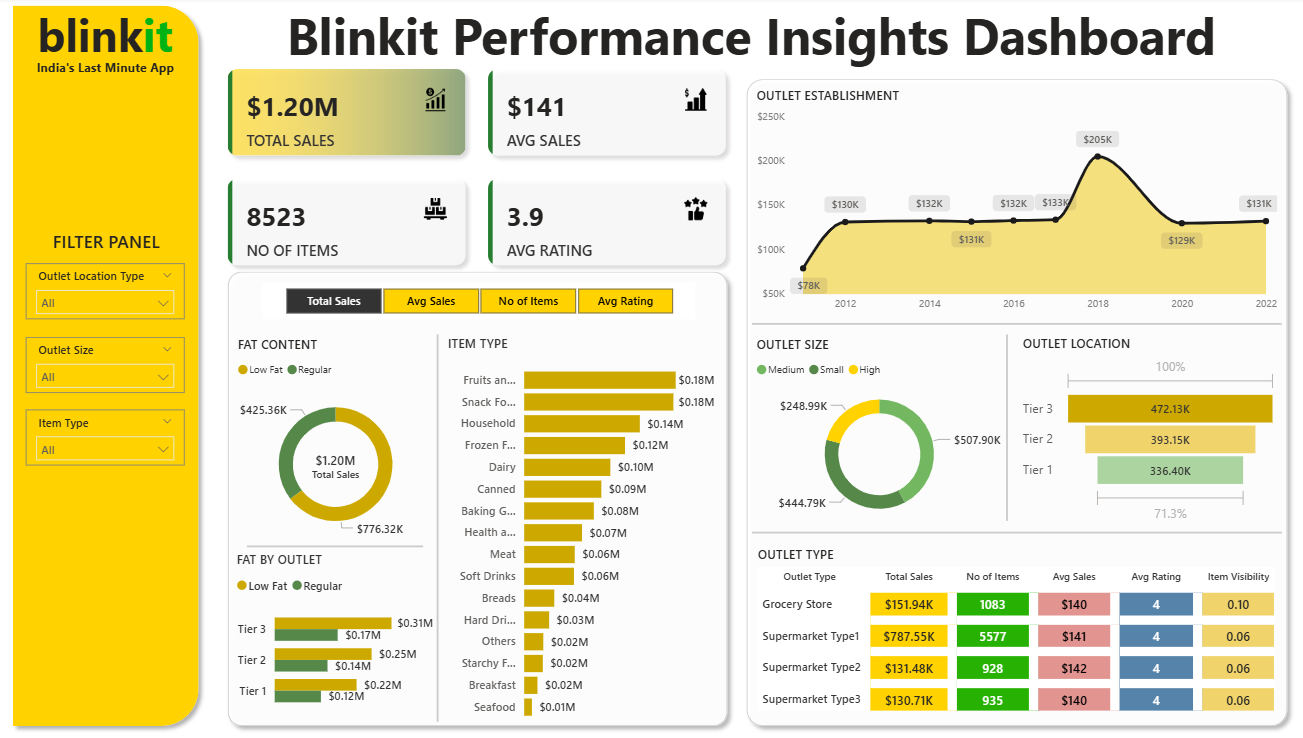

The page's visual inventory and layout, read from the dashboard file:
{"tool":"powerbi","page":{"name":"Page 1","canvas":[1400,800],"ordinal":0},"visuals":[{"type":"shape","box":[8,0,217.2,790.9],"z":0},{"type":"textbox","box":[30.8,2.7,170.2,93.8],"z":1000},{"type":"textbox","box":[37.5,61.7,160.9,34.9],"z":2000},{"type":"cardVisual","fields":{"Data":["BlinkIT Grocery Data.Total Sales","BlinkIT Grocery Data.Avg Sales","BlinkIT Grocery Data.No of Items","BlinkIT Grocery Data.Avg Rating"]},"box":[230.6,60.3,569.7,245.3],"z":3000},{"type":"shape","box":[238.6,285.5,553.6,505.4],"z":4000},{"type":"donutChart","title":"FAT CONTENT","fields":{"Y":["BlinkIT Grocery Data.Total Sales"],"Category":["BlinkIT Grocery Data.Item Fat Content"]},"box":[253.4,363.3,219.8,230.6],"z":5000},{"type":"slicer","fields":{"Values":["mETRICS.mETRICS"]},"box":[284.2,305.6,465.1,40.2],"z":6000},{"type":"cardVisual","fields":{"Data":["BlinkIT Grocery Data.Total Sales"]},"box":[309.7,466.5,107.2,72.4],"z":7000},{"type":"clusteredBarChart","title":"FAT BY OUTLET","fields":{"Y":["BlinkIT Grocery Data.Total Sales"],"Category":["BlinkIT Grocery Data.Outlet Location Type"],"Series":["BlinkIT Grocery Data.Item Fat Content"]},"box":[252,593.8,221.2,182.3],"z":8000},{"type":"shape","box":[268.1,569.7,189,38.9],"z":9000},{"type":"shape","box":[446.4,361.9,52.3,415.6],"z":10000},{"type":"barChart","title":"ITEM TYPE","fields":{"Y":["BlinkIT Grocery Data.Total Sales"],"Category":["BlinkIT Grocery Data.Item Type"]},"box":[478.6,361.9,296.2,423.6],"z":11000},{"type":"shape","box":[794.9,79.1,597.9,711.8],"z":12000},{"type":"lineChart","title":"OUTLET ESTABLISHMENT","fields":{"Y":["BlinkIT Grocery Data.Total Sales"],"Category":["BlinkIT Grocery Data.Outlet Establishment Year"]},"box":[809.7,96.5,568.4,249.3],"z":13000},{"type":"shape","box":[809.7,331.1,568.4,38.9],"z":14000},{"type":"donutChart","title":"OUTLET SIZE","fields":{"Y":["BlinkIT Grocery Data.Total Sales"],"Category":["BlinkIT Grocery Data.Outlet Size"]},"box":[809.7,363.3,273.5,209.1],"z":15000},{"type":"shape","box":[1056.3,361.9,53.6,199.7],"z":16000},{"type":"funnel","title":"OUTLET LOCATION","fields":{"Y":["Sum(BlinkIT Grocery Data.Sales)"],"Category":["BlinkIT Grocery Data.Outlet Location Type"]},"box":[1095.2,361.9,282.8,207.8],"z":17000},{"type":"shape","box":[809.7,555,568.4,38.9],"z":18000},{"type":"pivotTable","title":"OUTLET TYPE","fields":{"Rows":["BlinkIT Grocery Data.Outlet Type"],"Values":["BlinkIT Grocery Data.Total Sales","BlinkIT Grocery Data.No of Items","BlinkIT Grocery Data.Avg Sales","BlinkIT Grocery Data.Avg Rating","Avg(BlinkIT Grocery Data.Item Visibility)"]},"box":[811,588.5,567,186.3],"z":19000},{"type":"slicer","fields":{"Values":["BlinkIT Grocery Data.Outlet Location Type"]},"box":[30.8,285.5,170.2,60.3],"z":20000},{"type":"slicer","fields":{"Values":["BlinkIT Grocery Data.Outlet Size"]},"box":[30.8,364.6,170.2,60.3],"z":21000},{"type":"slicer","fields":{"Values":["BlinkIT Grocery Data.Item Type"]},"box":[30.8,442.4,170.2,60.3],"z":22000},{"type":"textbox","box":[48.3,226.5,138.1,59],"z":23000},{"type":"textbox","box":[305.6,0,1009.4,83.1],"z":24000}]}

Visuals, with their boxes in screenshot pixels (x1, y1, x2, y2), scaled from the page's 1400x800 canvas onto the 1303x738 screenshot:
shape: <box>7,0,210,730</box>
textbox: <box>29,2,187,89</box>
textbox: <box>35,57,185,89</box>
cardVisual - BlinkIT Grocery Data.Total Sales x BlinkIT Grocery Data.Avg Sales: <box>215,56,745,282</box>
shape: <box>222,263,737,730</box>
"FAT CONTENT" donutChart: <box>236,335,440,548</box>
slicer - mETRICS.mETRICS: <box>265,282,697,319</box>
cardVisual - BlinkIT Grocery Data.Total Sales: <box>288,430,388,497</box>
"FAT BY OUTLET" clusteredBarChart: <box>235,548,440,716</box>
shape: <box>250,526,425,561</box>
shape: <box>415,334,464,717</box>
"ITEM TYPE" barChart: <box>445,334,721,725</box>
shape: <box>740,73,1296,730</box>
"OUTLET ESTABLISHMENT" lineChart: <box>754,89,1283,319</box>
shape: <box>754,305,1283,341</box>
"OUTLET SIZE" donutChart: <box>754,335,1008,528</box>
shape: <box>983,334,1033,518</box>
"OUTLET LOCATION" funnel: <box>1019,334,1283,526</box>
shape: <box>754,512,1283,548</box>
"OUTLET TYPE" pivotTable: <box>755,543,1283,715</box>
slicer - BlinkIT Grocery Data.Outlet Location Type: <box>29,263,187,319</box>
slicer - BlinkIT Grocery Data.Outlet Size: <box>29,336,187,392</box>
slicer - BlinkIT Grocery Data.Item Type: <box>29,408,187,464</box>
textbox: <box>45,209,173,263</box>
textbox: <box>284,0,1224,77</box>
